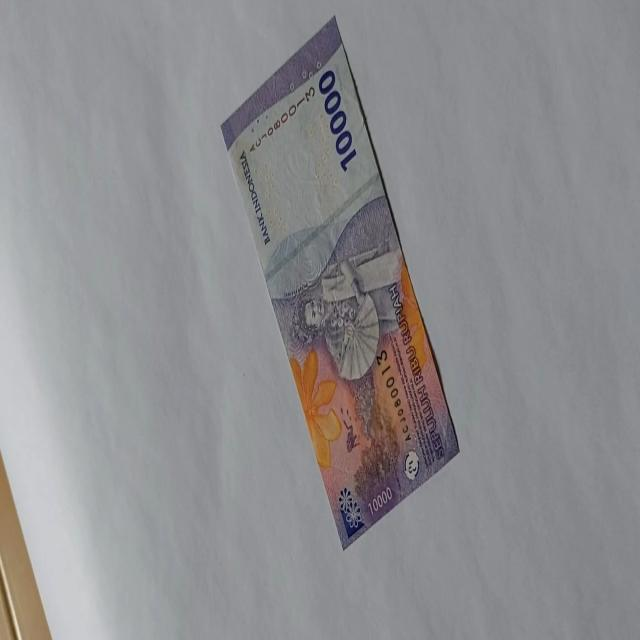sepuluh ribu rupiah: (220, 15, 460, 551)
